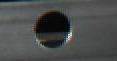holes: (32, 7, 73, 49)
